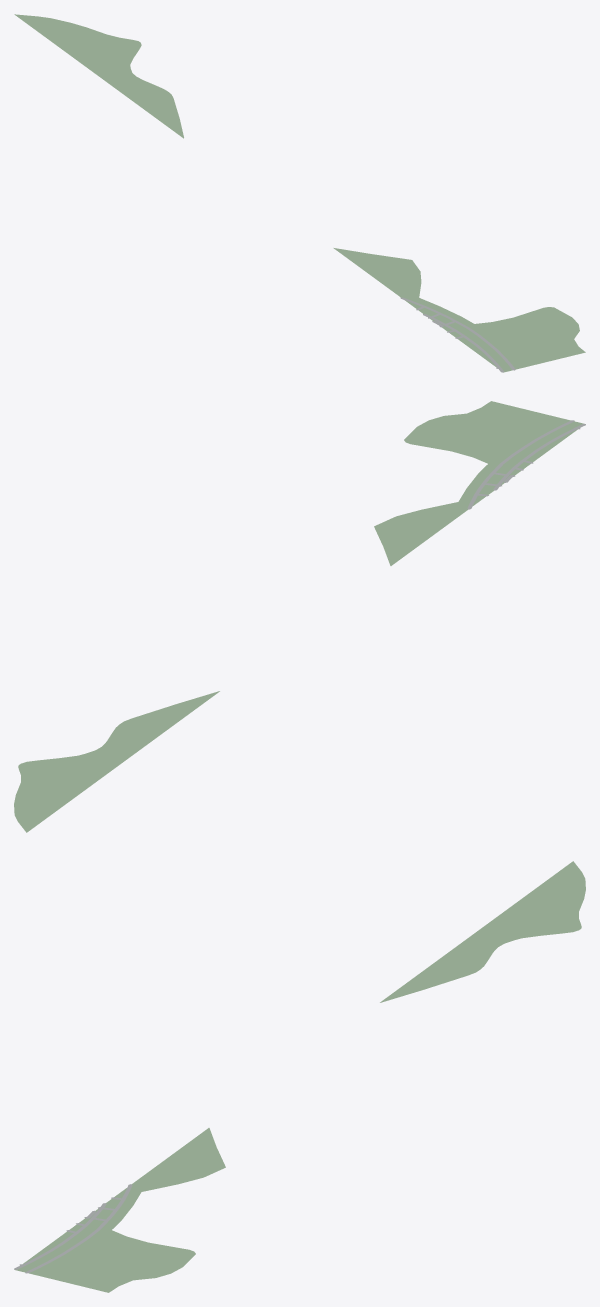
The model's file is -8_-3-known-fine.glb.
3 renders of one model, top to bottom at view 1: azimuth 30°, elevation 25°; view 2: azimuth 150°, elevation 25°; view 3: azimuth 330°, elevation 25°, orthographic. The views are drawn at different scales.
Bounding box in the file's own units: 106 × 0.1 × 819.
